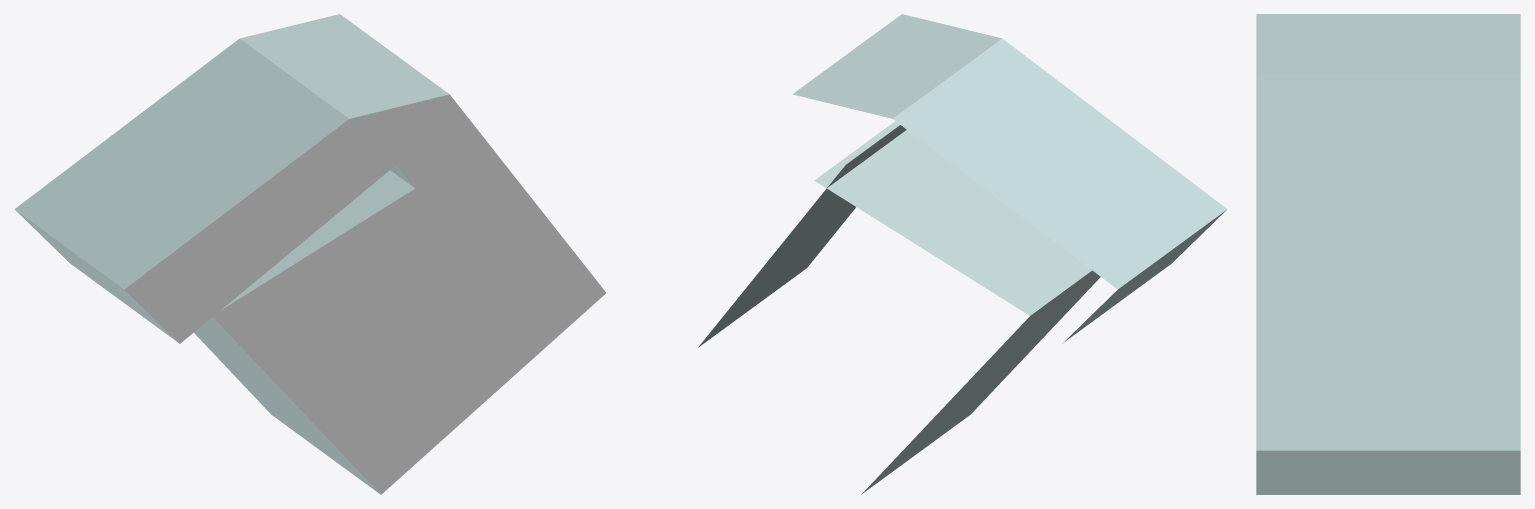
3 renders of one model, left to right at view 1: azimuth 30°, elevation 25°; view 2: azimuth 150°, elevation 25°; view 3: azimuth 270°, elevation 25°, orthographic. The views are drawn at different scales.
Visible parts, largest first — view 1: 0_2_2_3_1_2_3_3_3; view 2: 0_2_2_3_1_2_3_3_3; view 3: 0_2_2_3_1_2_3_3_3.
Boxes of the visible parts, box(x1,y1,x2,y2) form: 0_2_2_3_1_2_3_3_3: box(14, 14, 605, 494); 0_2_2_3_1_2_3_3_3: box(698, 14, 1227, 494); 0_2_2_3_1_2_3_3_3: box(1256, 14, 1520, 494).
Bounding box in the file's own units: 7.61 × 5.78 × 3.
